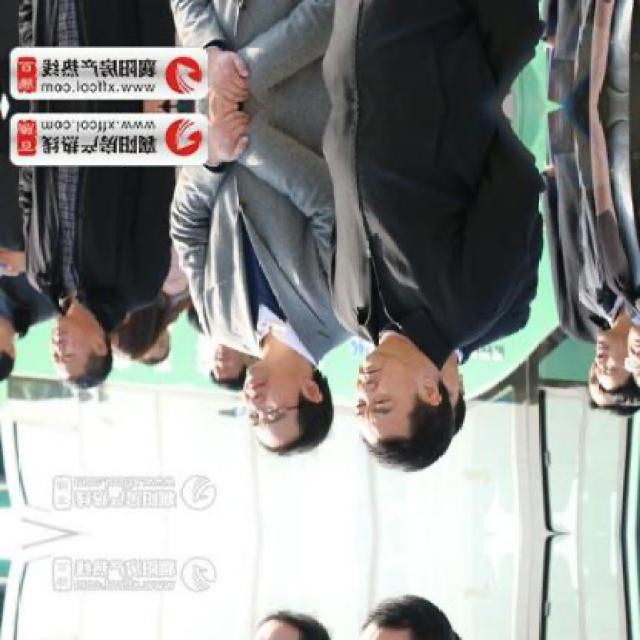sin casco: (347, 290, 468, 481), (11, 273, 126, 414), (224, 330, 341, 460)
